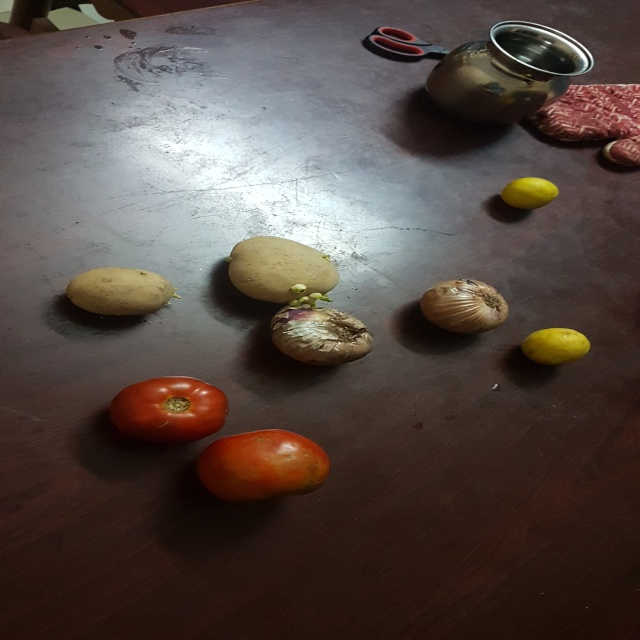lemon: (516, 323, 592, 368), (497, 171, 560, 211)
onion: (267, 304, 379, 369), (421, 277, 513, 337)
potato: (228, 235, 342, 306), (63, 266, 182, 321)
tomato: (199, 427, 334, 496), (104, 375, 229, 438)
